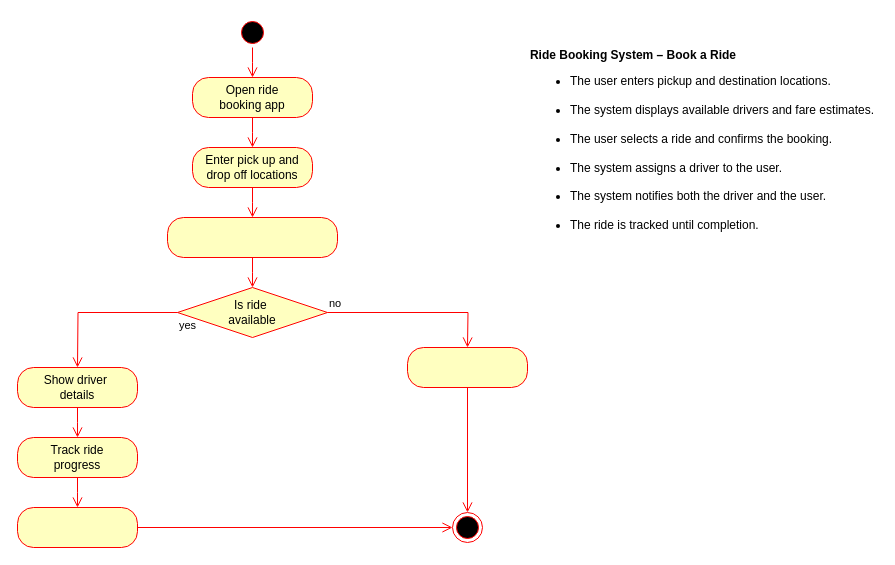
Image size: 895x565. Some labels were removed from this diagram. Each missing label, with the centre of its shape:
"Arrive at destination and pay" belongs at [77,527].
"Ride not available" belongs at [467,367].
"Select ride option and confirm booking" belongs at [252,237].
